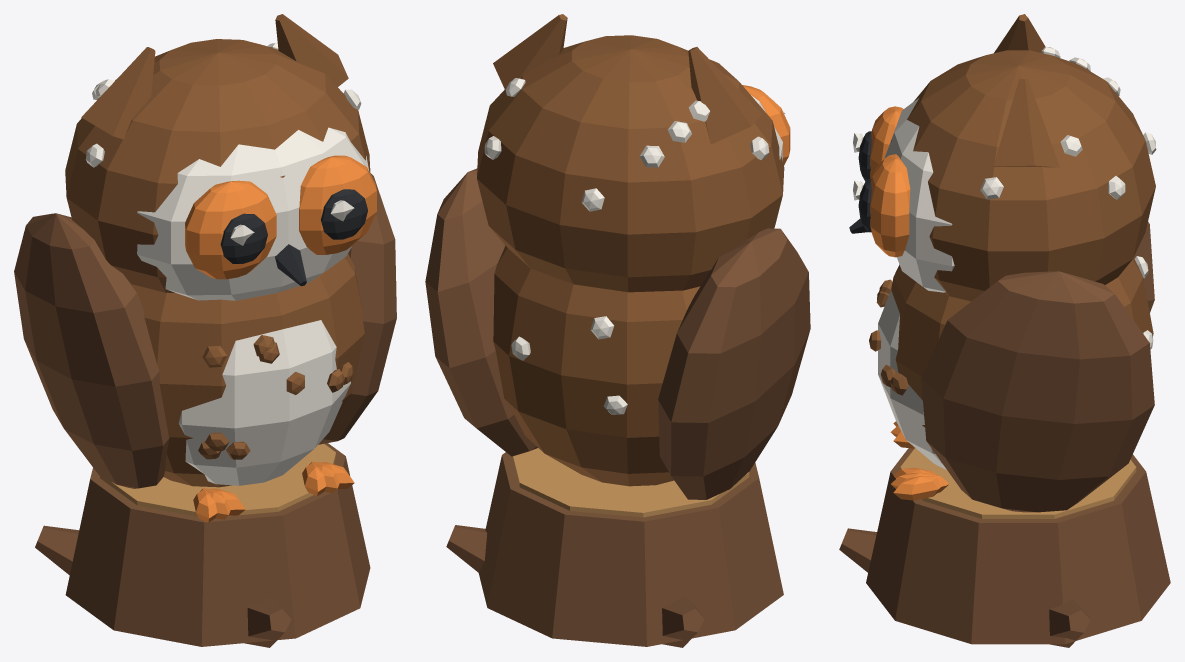
Rendered from chunky-owl-pet.glb.
The picture shows the model from 3 angles, left to right: view 1: azimuth 30°, elevation 25°; view 2: azimuth 150°, elevation 25°; view 3: azimuth 270°, elevation 25°; orthographic projection. The views are drawn at different scales.
Parts seen in each view (by area): view 1: Owl_Pet; view 2: Owl_Pet; view 3: Owl_Pet.
Boxes of the visible parts, x1,y1,x2,y2 form: Owl_Pet: [14, 14, 396, 647]; Owl_Pet: [425, 14, 810, 647]; Owl_Pet: [839, 14, 1170, 647].
Bounding box in the file's own units: 1.5 × 2.49 × 1.35.
